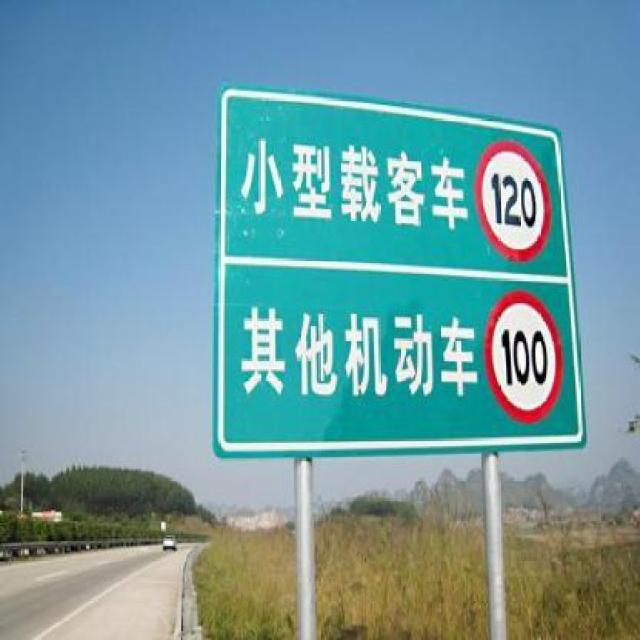forb_speed_over_100: (488, 291, 565, 420)
forb_speed_over_120: (483, 140, 549, 260)
